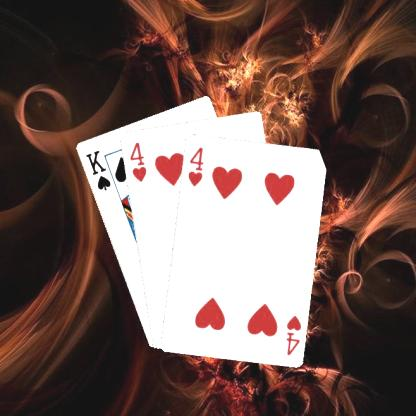4H: (126, 139, 148, 183), (282, 312, 302, 357), (184, 144, 204, 188)
KS: (82, 148, 112, 192)
